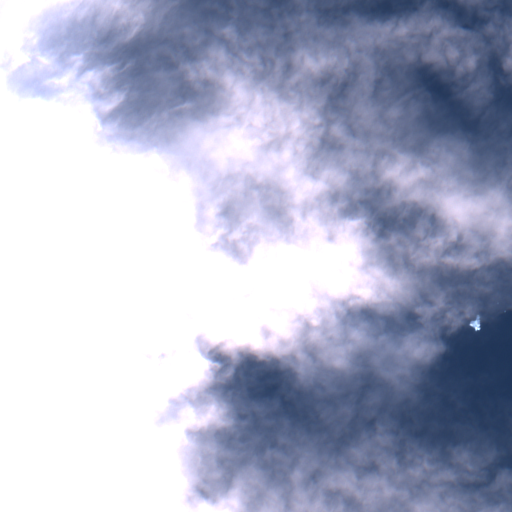Iceberg: (469, 315, 480, 331), (504, 310, 505, 311)
